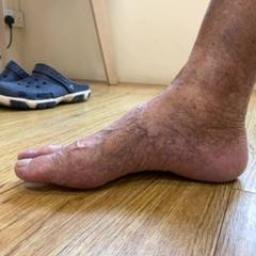Medial View -Right Foot-: (2, 60, 255, 199)
